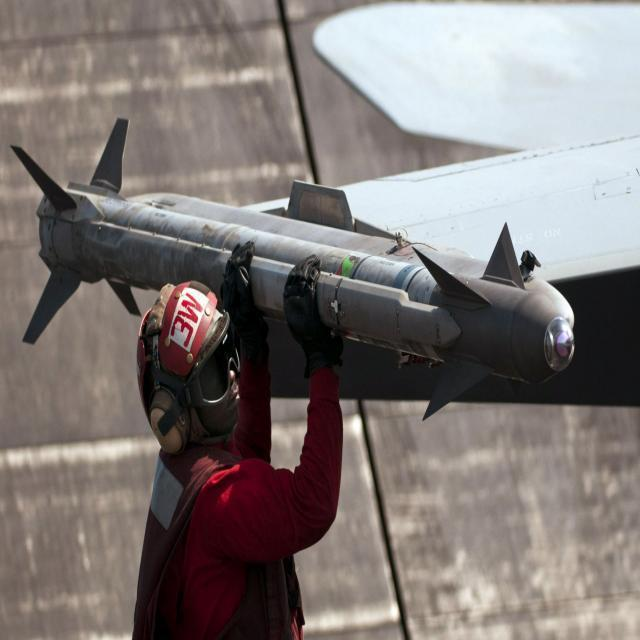missile: (16, 178, 576, 360)
